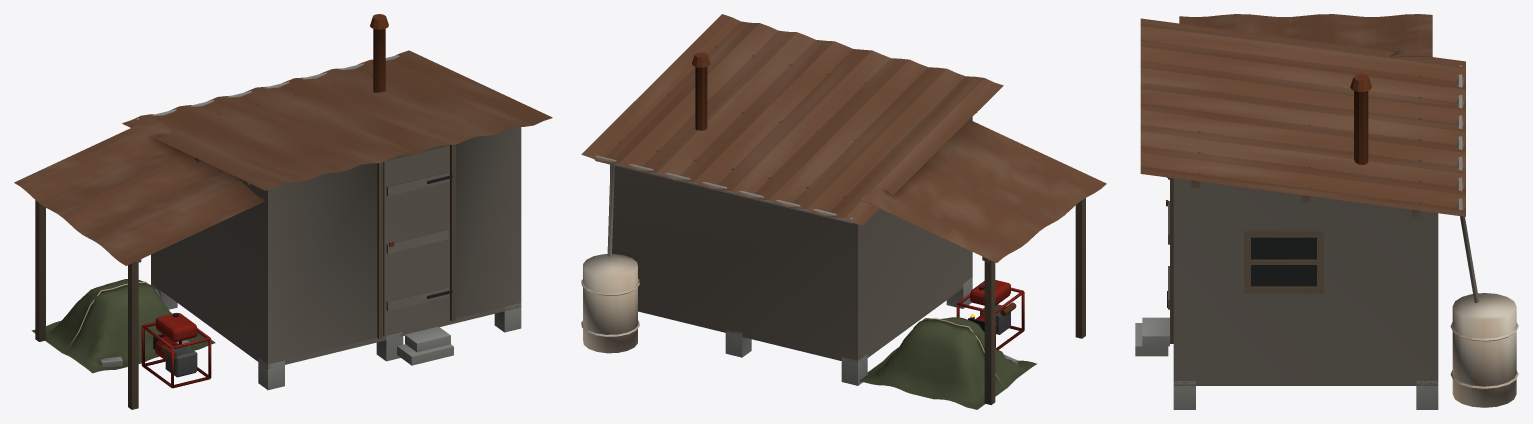
Rendered from pike_shack.glb.
The picture shows the model from 3 angles, left to right: view 1: azimuth 30°, elevation 25°; view 2: azimuth 150°, elevation 25°; view 3: azimuth 270°, elevation 25°; orthographic projection. The views are drawn at different scales.
Visible parts, largest first — view 1: shack_walls_LOD0, shack_roof_LOD0, shack_lean_to_LOD0, door_LOD0, shack_tarp_LOD0, shack_generator_LOD0; view 2: shack_roof_LOD0, shack_walls_LOD0, shack_lean_to_LOD0, shack_tarp_LOD0, shack_barrel_LOD0, shack_generator_LOD0; view 3: shack_walls_LOD0, shack_roof_LOD0, shack_barrel_LOD0, shack_lean_to_LOD0.
Part boxes in pixels (bbox=[...]): shack_walls_LOD0: bbox=[151, 127, 521, 390]; shack_roof_LOD0: bbox=[122, 14, 552, 190]; shack_lean_to_LOD0: bbox=[14, 117, 265, 409]; door_LOD0: bbox=[383, 145, 452, 335]; shack_tarp_LOD0: bbox=[31, 279, 215, 373]; shack_generator_LOD0: bbox=[141, 313, 211, 388]; shack_roof_LOD0: bbox=[581, 14, 1003, 225]; shack_walls_LOD0: bbox=[610, 117, 972, 385]; shack_lean_to_LOD0: bbox=[860, 120, 1106, 405]; shack_tarp_LOD0: bbox=[859, 317, 1036, 409]; shack_barrel_LOD0: bbox=[581, 164, 639, 353]; shack_generator_LOD0: bbox=[956, 280, 1024, 349]; shack_walls_LOD0: bbox=[1135, 178, 1438, 409]; shack_roof_LOD0: bbox=[1140, 18, 1465, 217]; shack_barrel_LOD0: bbox=[1450, 216, 1518, 407]; shack_lean_to_LOD0: bbox=[1179, 14, 1432, 57].
Size of what is drawn, in the model's own units: 4.85 by 3 by 3.48.
